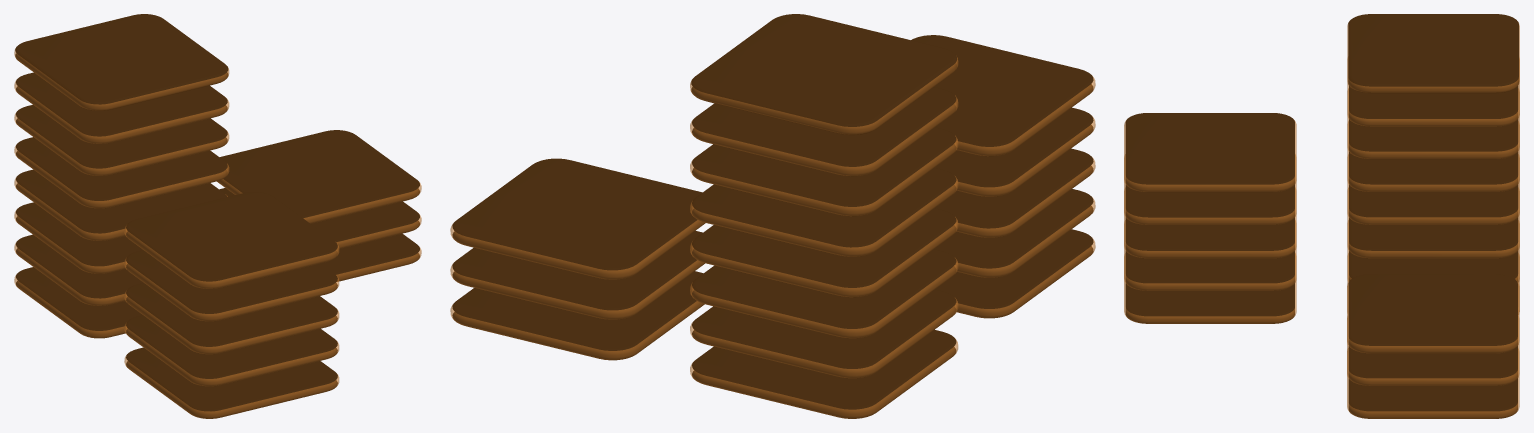
Rendered from services2.glb.
The picture shows the model from 3 angles, left to right: view 1: azimuth 30°, elevation 25°; view 2: azimuth 150°, elevation 25°; view 3: azimuth 270°, elevation 25°; orthographic projection. The views are drawn at different scales.
Parts seen in each view (by area): view 1: Plane.015, Plane.021, Plane.003, Plane.019, Plane.014, Plane.012, Plane.020, Plane.017, Plane.018, Plane.013, Plane.011, Plane.010 (+4 smaller); view 2: Plane.015, Plane.003, Plane.021, Plane.014, Plane.010, Plane.008, Plane.012, Plane.011, Plane.009, Plane.013, Plane.001, Plane.002 (+4 smaller); view 3: Plane.003, Plane.015, Plane.021, Plane.010, Plane.019, Plane.013, Plane.014, Plane.001, Plane.017, Plane.011, Plane.012, Plane.020 (+3 smaller).
Part boxes in pixels (<box>): Plane.015: <box>14,14,229,110</box>; Plane.021: <box>124,192,339,288</box>; Plane.003: <box>217,130,421,223</box>; Plane.019: <box>124,283,339,354</box>; Plane.014: <box>14,72,229,143</box>; Plane.012: <box>14,137,229,208</box>; Plane.020: <box>124,250,339,321</box>; Plane.017: <box>124,347,339,418</box>; Plane.018: <box>124,315,339,386</box>; Plane.013: <box>14,105,229,175</box>; Plane.011: <box>14,169,227,240</box>; Plane.010: <box>14,202,142,273</box>; Plane.015: <box>690,14,958,135</box>; Plane.003: <box>450,158,705,279</box>; Plane.021: <box>911,35,1095,156</box>; Plane.014: <box>690,87,958,176</box>; Plane.010: <box>690,249,958,338</box>; Plane.008: <box>690,329,958,418</box>; Plane.012: <box>690,167,958,256</box>; Plane.011: <box>690,208,958,297</box>; Plane.009: <box>690,289,958,378</box>; Plane.013: <box>690,127,958,216</box>; Plane.001: <box>450,271,704,360</box>; Plane.002: <box>450,230,704,319</box>; Plane.003: <box>1347,274,1519,353</box>; Plane.015: <box>1347,14,1519,93</box>; Plane.021: <box>1124,113,1296,192</box>; Plane.010: <box>1347,188,1519,258</box>; Plane.019: <box>1124,188,1296,258</box>; Plane.013: <box>1347,89,1519,159</box>; Plane.014: <box>1347,58,1519,126</box>; Plane.001: <box>1347,348,1519,418</box>; Plane.017: <box>1124,253,1296,323</box>; Plane.011: <box>1347,154,1519,224</box>; Plane.012: <box>1347,121,1519,191</box>; Plane.020: <box>1124,154,1296,224</box>.
Size of the model in its own units: 2.19 by 1.46 by 2.18.
